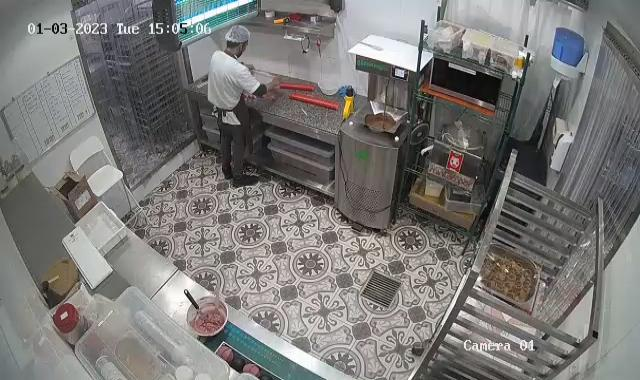hairnet: (225, 22, 251, 50)
